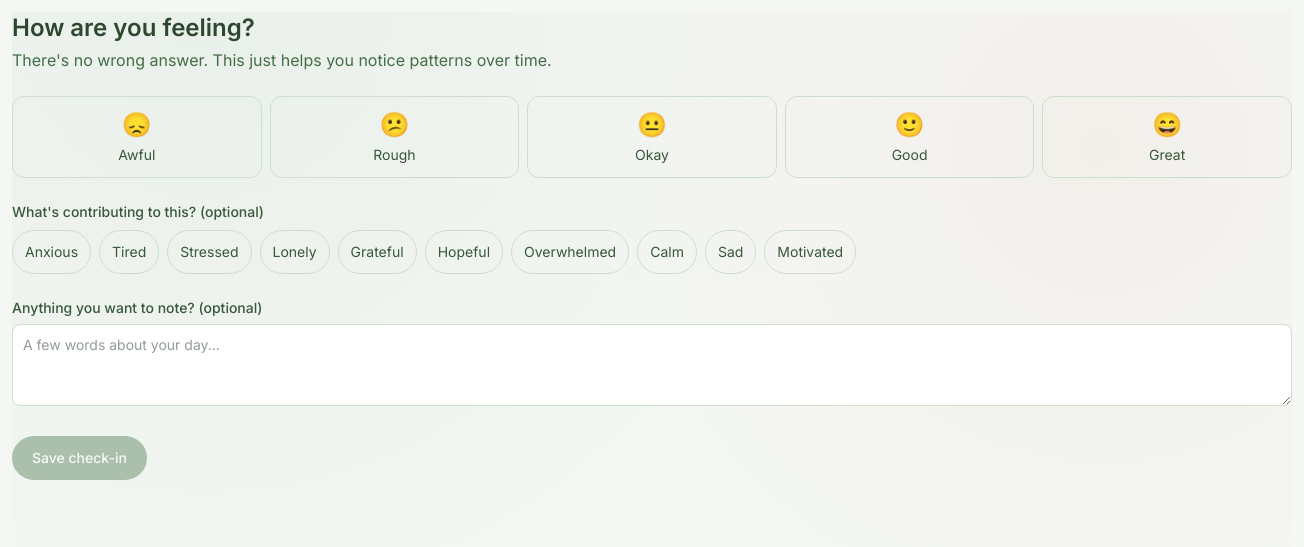
CheckIn page › keeps what was typed and says so when the browser cannot save
Click the radio button labelled "😐 Okay" at (652, 137), box [527,96,777,178]
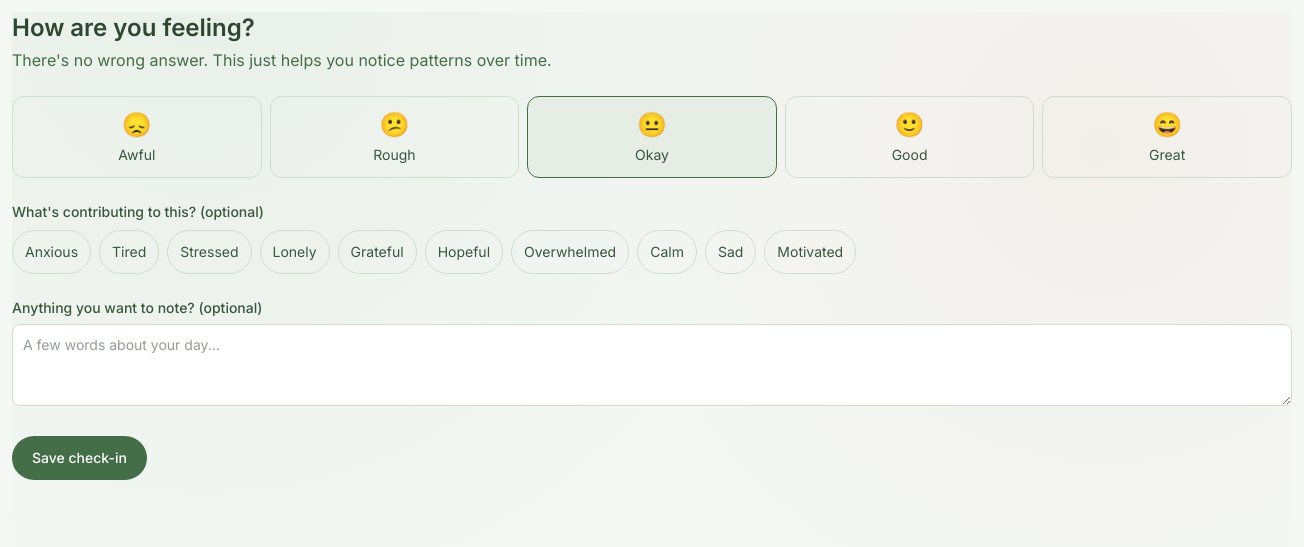
Click the button "Save check-in" at (79, 458), box [12,436,147,480]
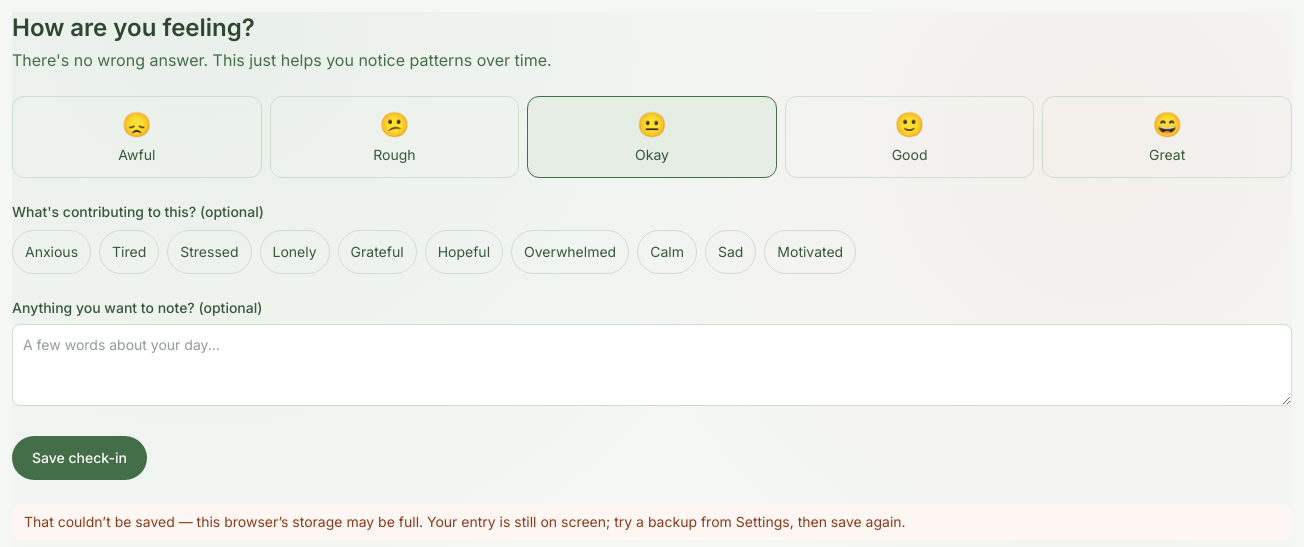
Expected: the message shows "couldn’t be saved", [24,513,906,530]
